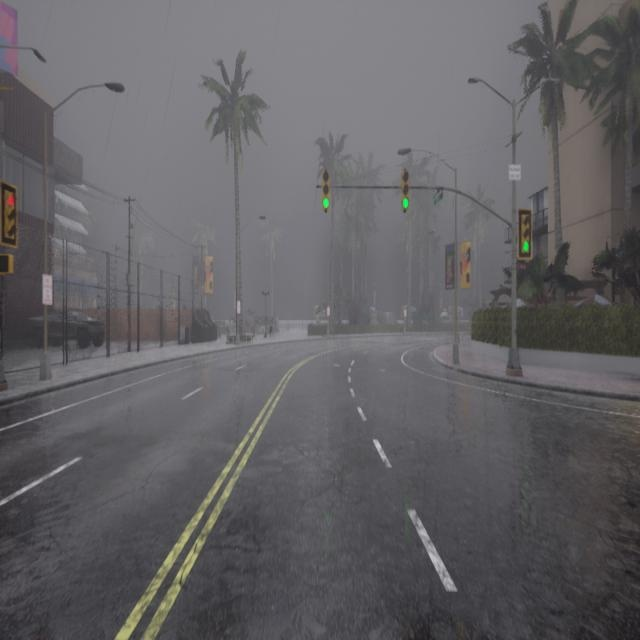bien_chi_dan: (1, 181, 18, 246), (519, 208, 532, 258), (320, 169, 333, 215), (400, 170, 412, 214), (3, 190, 16, 208), (321, 196, 331, 212), (401, 196, 410, 212), (521, 239, 530, 253)
